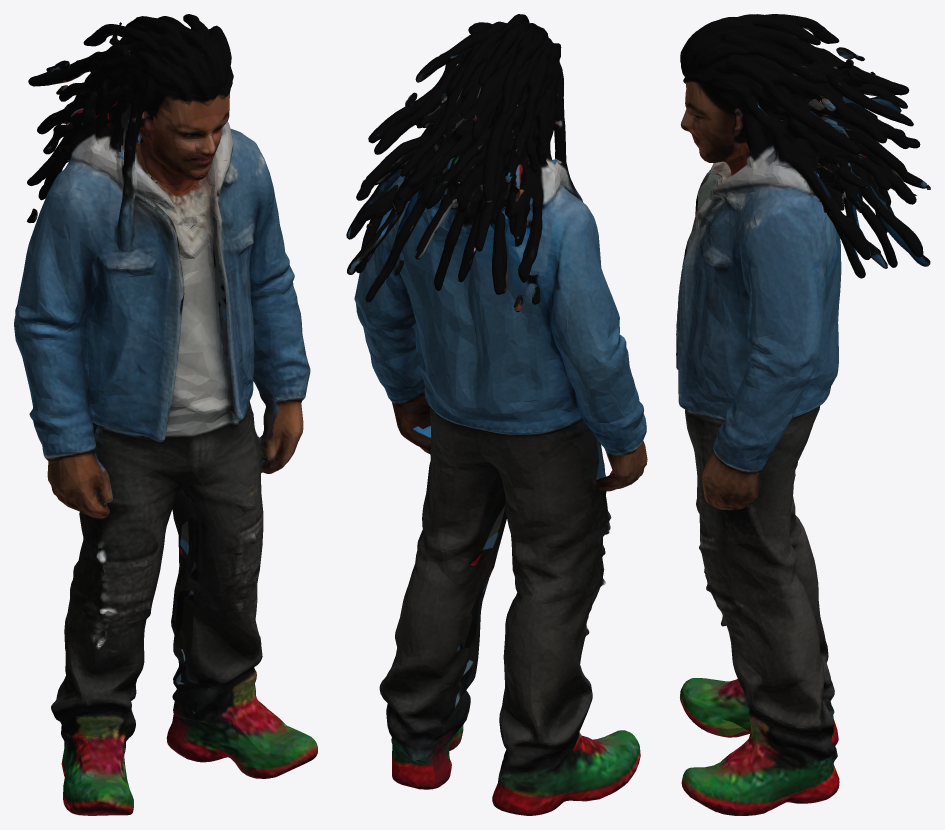
File: Avatar3.glb
The picture shows the model from 3 angles, left to right: view 1: azimuth 30°, elevation 25°; view 2: azimuth 150°, elevation 25°; view 3: azimuth 270°, elevation 25°; orthographic projection. The views are drawn at different scales.
Visible parts, largest first — view 1: world; view 2: world; view 3: world.
Boxes of the visible parts, bbox=[...] form: world: bbox=[14, 14, 317, 815]; world: bbox=[346, 14, 647, 815]; world: bbox=[676, 14, 930, 815].
Size of the model in its own units: 0.7292 by 1.99 by 0.611.
1 material, 1 textured.
